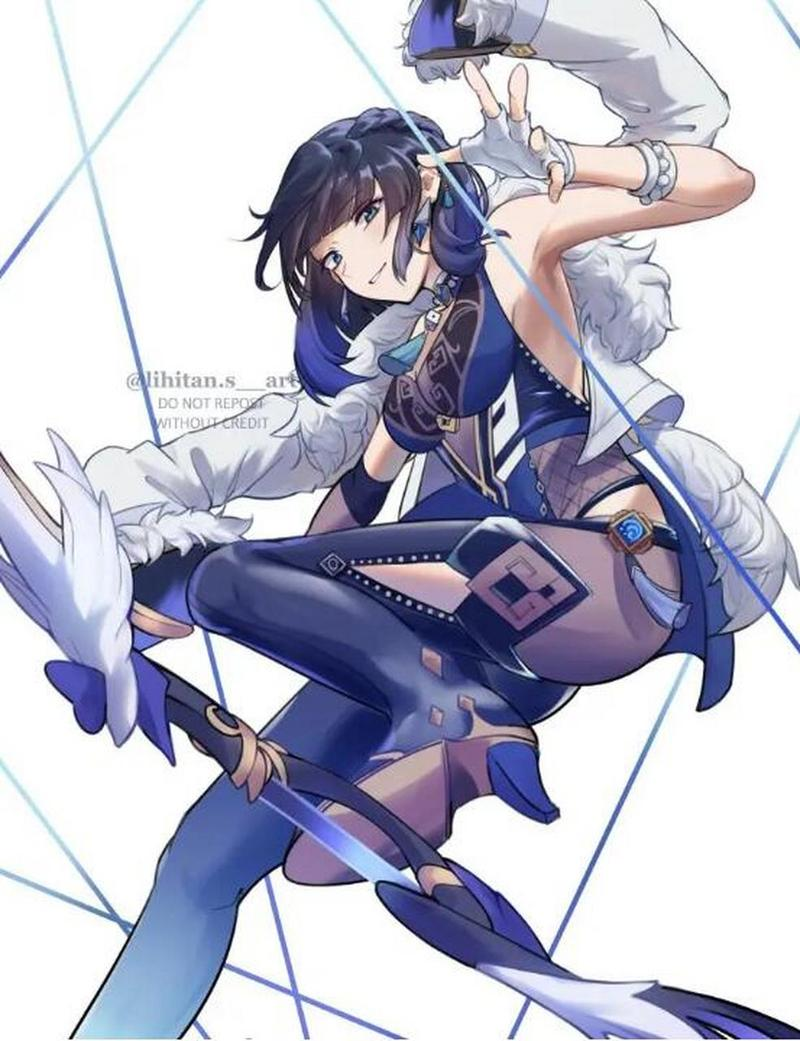夜兰: (68, 6, 755, 1041)
